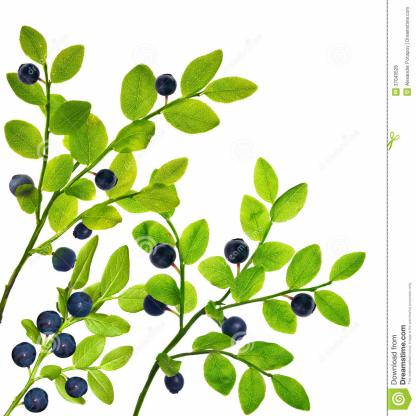blueberry leaf: (179, 46, 231, 98), (270, 179, 325, 225), (95, 241, 134, 304), (163, 99, 225, 136), (235, 339, 309, 369), (310, 287, 359, 332), (117, 60, 155, 118), (66, 233, 101, 291), (283, 244, 328, 288), (147, 152, 193, 193), (270, 372, 313, 415), (202, 75, 261, 106), (132, 182, 180, 219), (182, 214, 215, 266), (203, 350, 237, 400), (49, 44, 88, 87), (78, 201, 127, 235), (250, 152, 282, 204), (2, 122, 42, 163), (230, 266, 271, 306), (16, 24, 53, 68), (261, 296, 298, 340), (239, 192, 270, 244), (49, 100, 94, 135), (142, 271, 184, 308), (45, 188, 80, 232), (238, 366, 269, 415), (113, 119, 158, 152), (43, 152, 80, 192), (191, 254, 232, 290), (327, 250, 369, 284), (253, 239, 294, 273), (71, 332, 108, 369), (86, 367, 117, 411), (85, 312, 132, 340), (99, 345, 135, 372)
